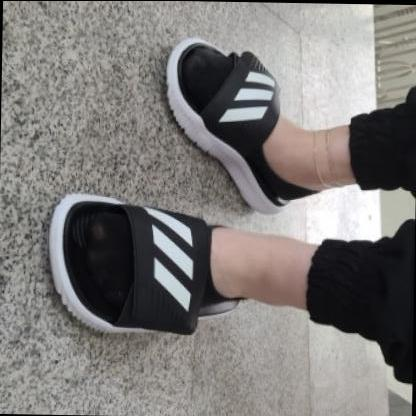no_safety-shoe: (143, 24, 331, 201), (44, 191, 249, 344)
